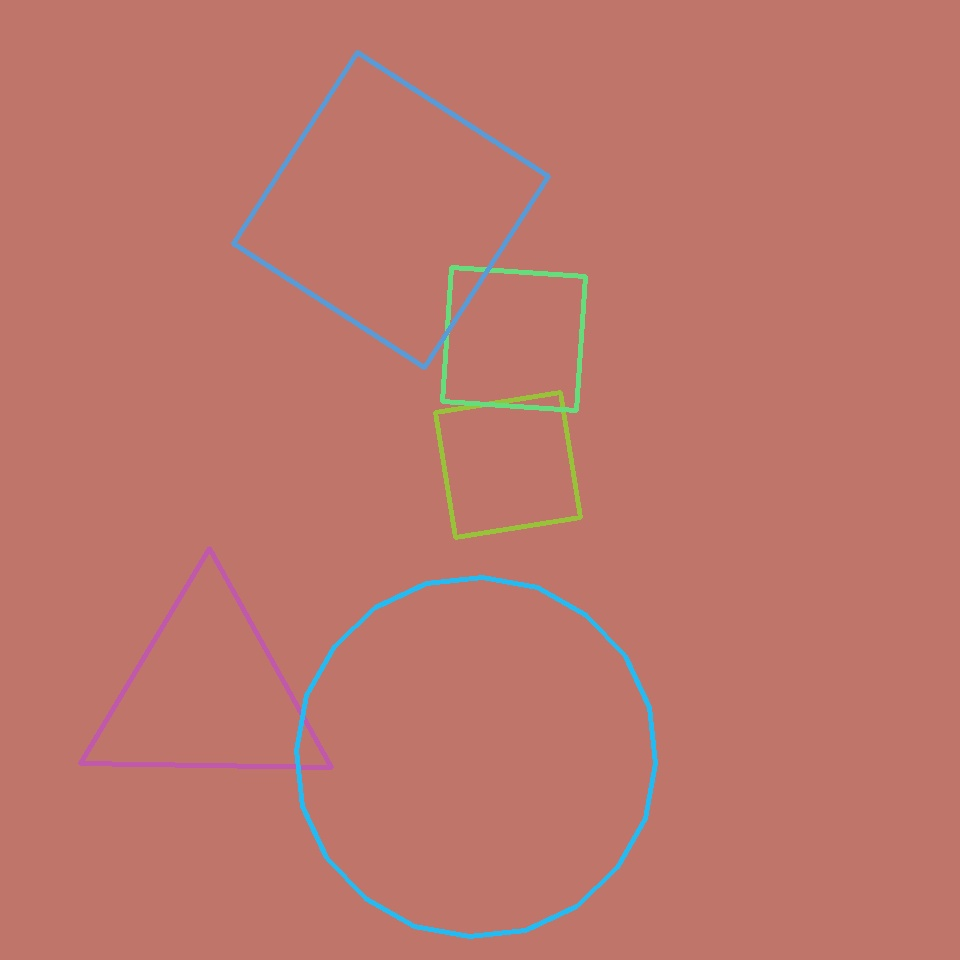circle: (82, 584, 332, 802)
square: (234, 52, 548, 368), (436, 392, 580, 538), (442, 268, 586, 410)
triangle: (296, 578, 656, 936)
